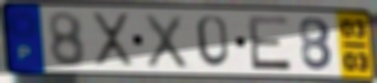0: (193, 14, 231, 70)
8: (46, 9, 88, 69), (297, 17, 334, 72)
E: (245, 14, 294, 73)
X: (89, 10, 137, 71), (142, 12, 190, 71)
